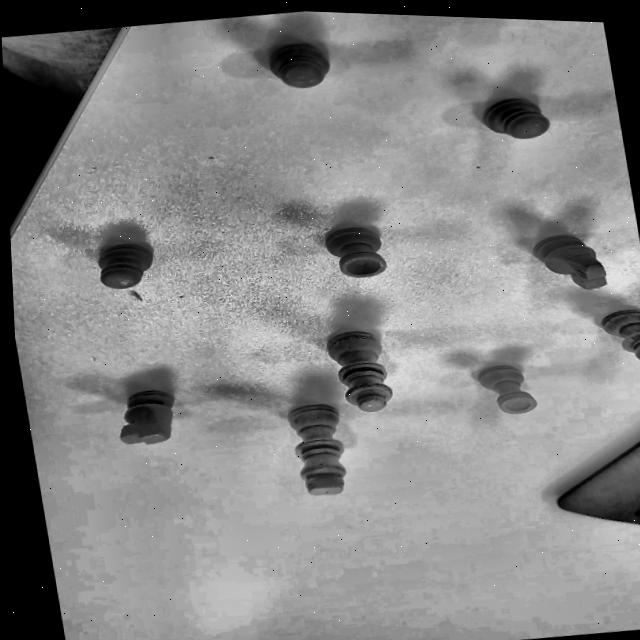white-king: (268, 399, 357, 506)
white-knight: (98, 375, 198, 457), (532, 219, 609, 301)
white-pawn: (465, 69, 577, 156), (83, 216, 172, 310), (257, 25, 356, 98)
white-queen: (327, 310, 399, 415)
white-rook: (303, 196, 436, 295), (476, 347, 555, 423)
